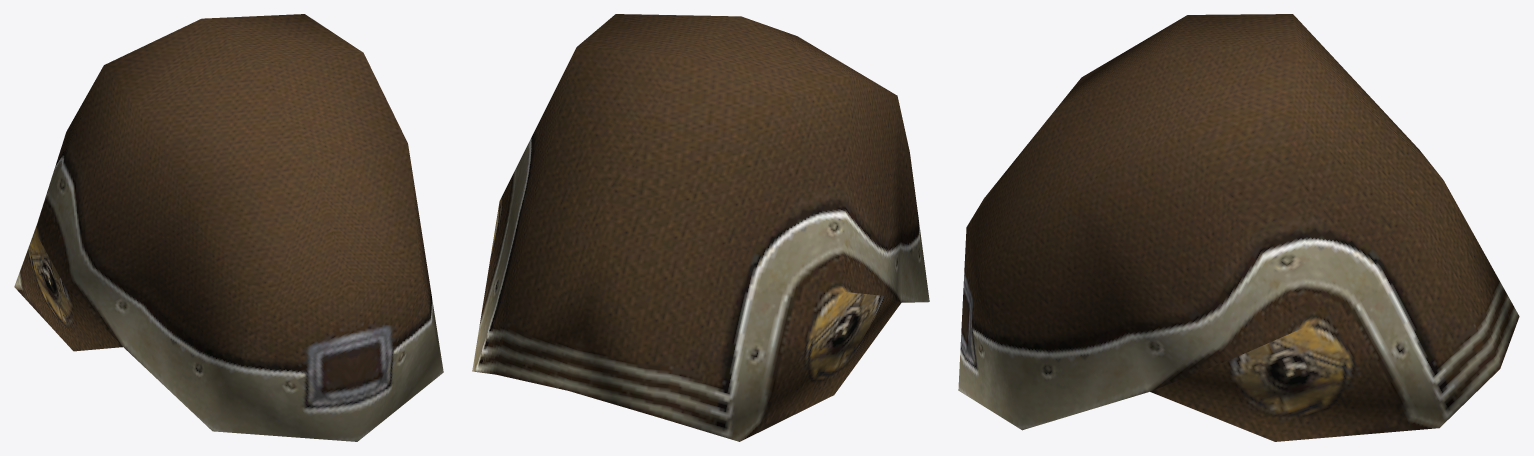
File: Helmet4__CMG.glb
3 renders of one model, left to right at view 1: azimuth 30°, elevation 25°; view 2: azimuth 150°, elevation 25°; view 3: azimuth 270°, elevation 25°, orthographic. The views are drawn at different scales.
Parts seen in each view (by area): view 1: Helmet4; view 2: Helmet4; view 3: Helmet4.
Part boxes in pixels (x1,y1,x2,y2): Helmet4: (14,14,443,441); Helmet4: (472,14,929,441); Helmet4: (958,14,1519,441).
Bounding box in the file's own units: 12.19 × 10.84 × 16.01.
Materials: 1 (1 with a texture image).
